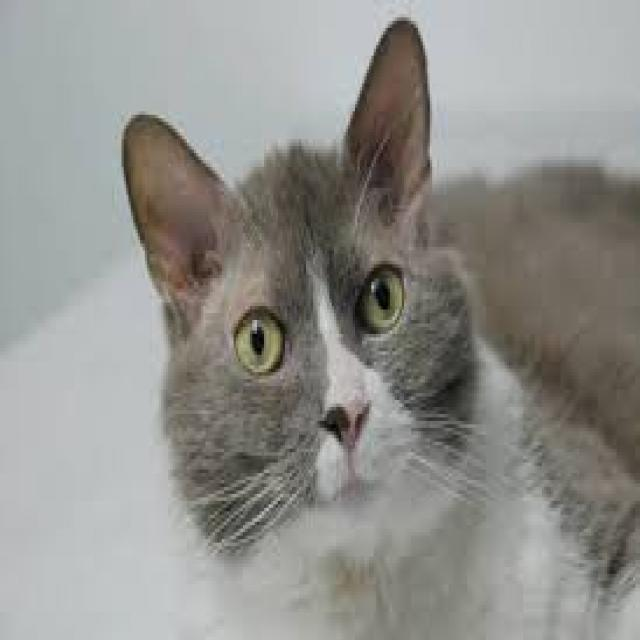Cat: (117, 14, 521, 640)
